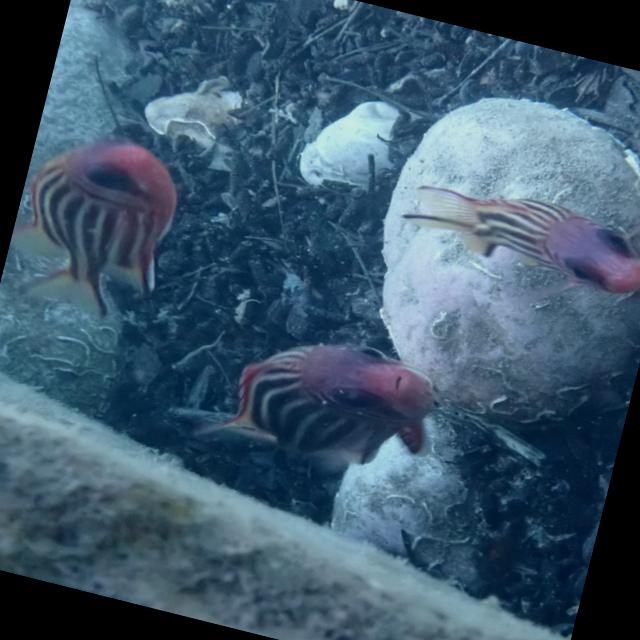Asker Baligi: (190, 307, 450, 493), (384, 163, 640, 332), (0, 116, 192, 331)
